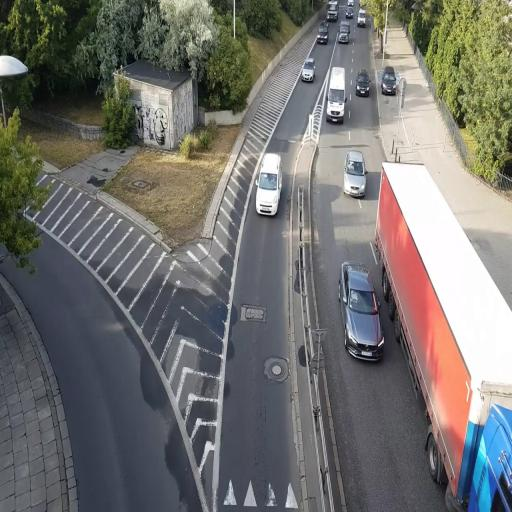vehicle: (373, 161, 512, 507), (338, 262, 385, 362), (256, 151, 280, 217), (344, 150, 366, 197), (380, 68, 398, 96), (300, 58, 316, 82), (356, 70, 370, 96), (338, 22, 350, 44), (316, 25, 328, 44)
